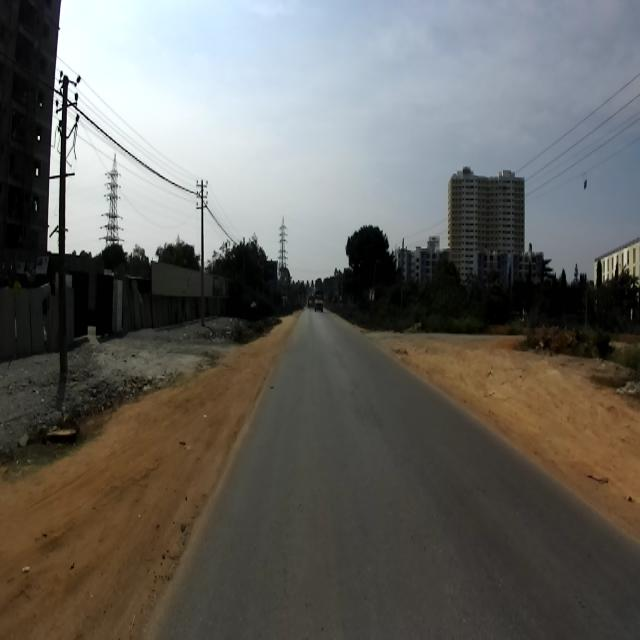electric pole ahead at: (44, 54, 86, 395)
